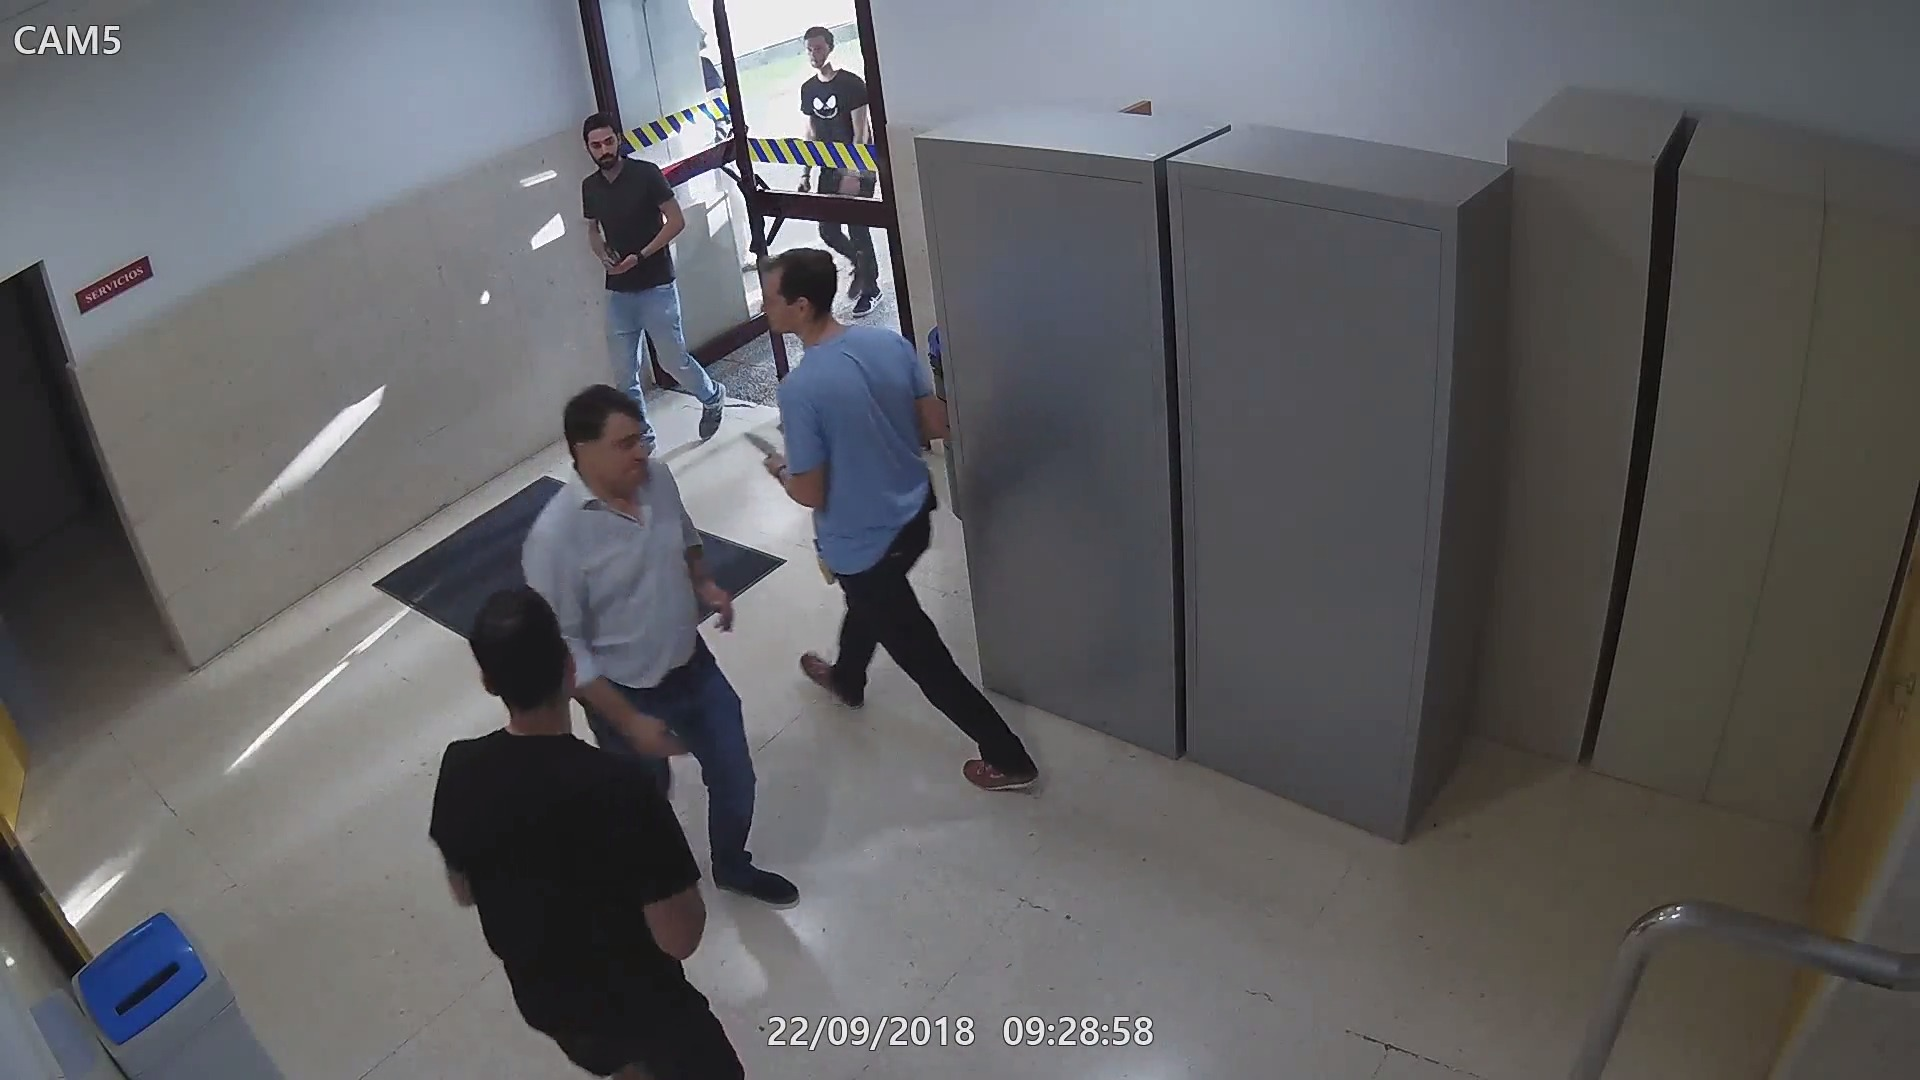Handgun: (617, 705, 707, 766), (600, 244, 629, 277), (796, 183, 807, 190)
Knife: (740, 429, 790, 483)
